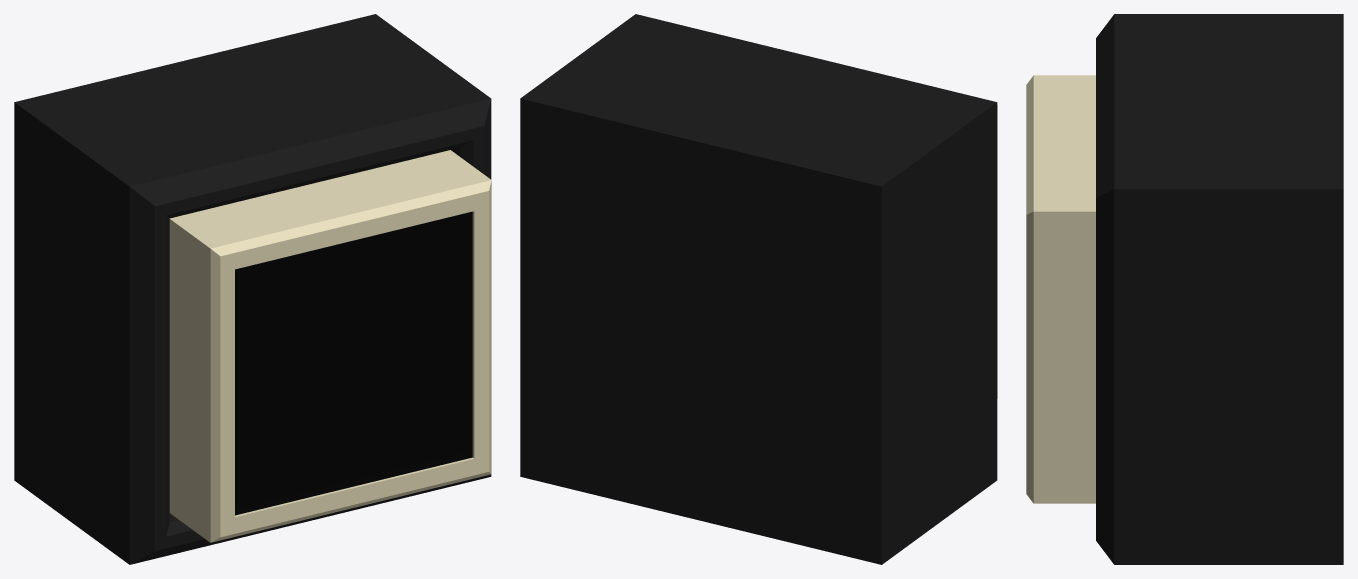
File: button.fbx
The picture shows the model from 3 angles, left to right: view 1: azimuth 30°, elevation 25°; view 2: azimuth 150°, elevation 25°; view 3: azimuth 270°, elevation 25°; orthographic projection.
Parts seen in each view (by area): view 1: Button Frame, ButtonWindow, Button; view 2: Button Frame; view 3: Button Frame, Button.
Part boxes in pixels (left/top/right/bottom): Button Frame: left=14, top=14, right=491, bottom=564; ButtonWindow: left=235, top=211, right=472, bottom=515; Button: left=169, top=150, right=491, bottom=542; Button Frame: left=520, top=14, right=997, bottom=564; Button Frame: left=1096, top=14, right=1343, bottom=564; Button: left=1026, top=75, right=1095, bottom=503.
Size of the model in its own units: 2.25 by 2.25 by 1.72.
